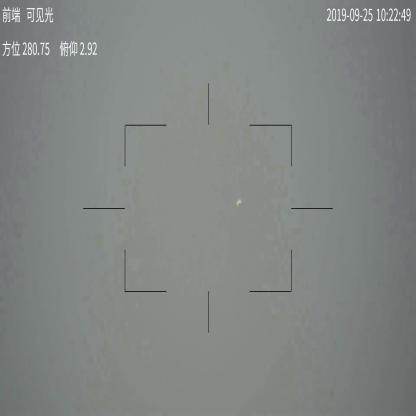uav: (235, 199, 243, 210)
